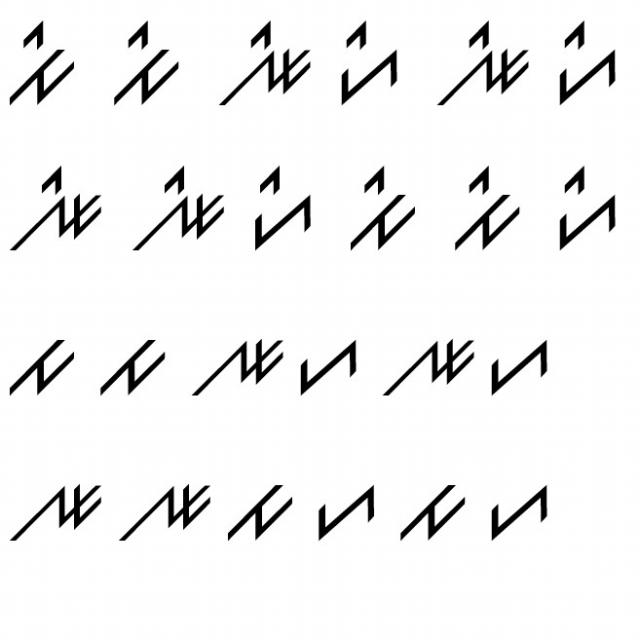ha: (486, 470, 558, 548), (309, 478, 382, 554), (294, 332, 364, 402), (486, 338, 558, 402)
hi: (246, 160, 322, 258), (550, 155, 622, 254), (540, 20, 620, 107), (332, 17, 406, 111)
mba: (7, 324, 80, 402), (92, 328, 172, 399), (396, 472, 468, 550), (223, 478, 296, 554)
mbi: (340, 156, 426, 253), (104, 12, 188, 107), (444, 166, 526, 256), (4, 14, 80, 106)
nda: (4, 472, 107, 556), (377, 322, 477, 406), (114, 477, 212, 559), (189, 326, 288, 404)
ndi: (212, 15, 322, 116), (430, 12, 534, 110), (124, 163, 229, 256), (11, 163, 110, 253)
